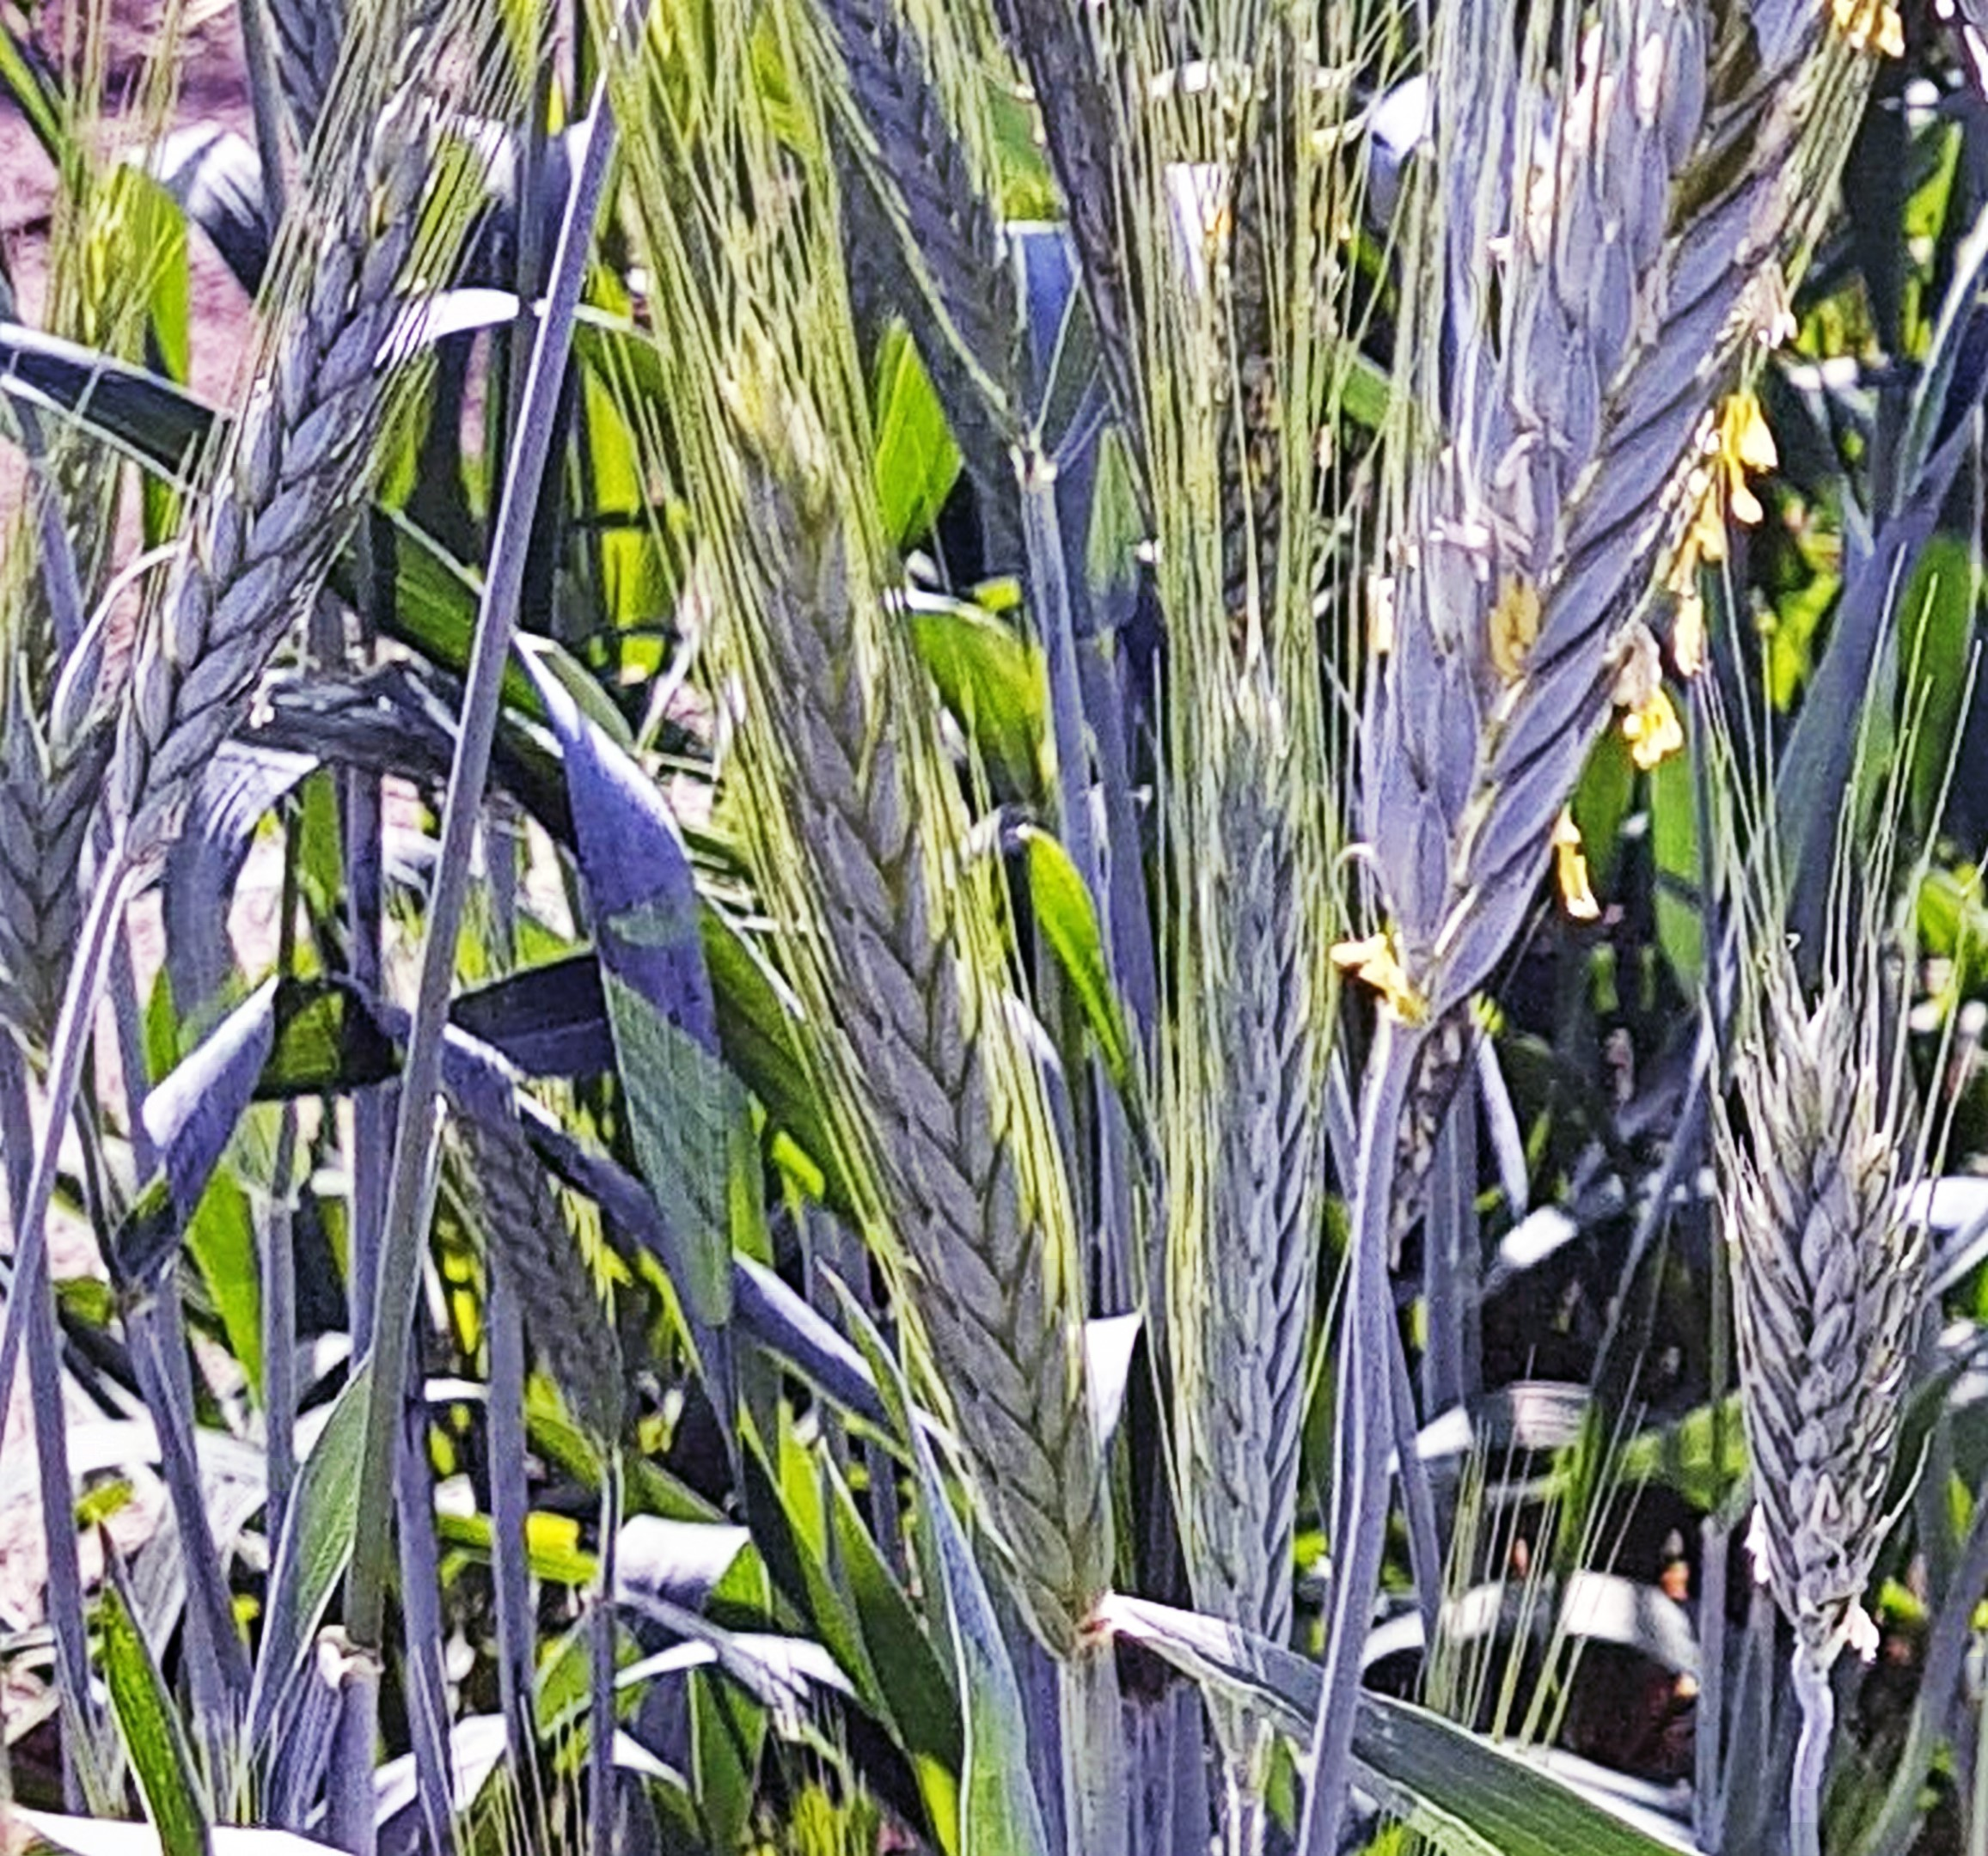Healthy Wheat: (136, 99, 475, 855), (1700, 1013, 1916, 1643)
